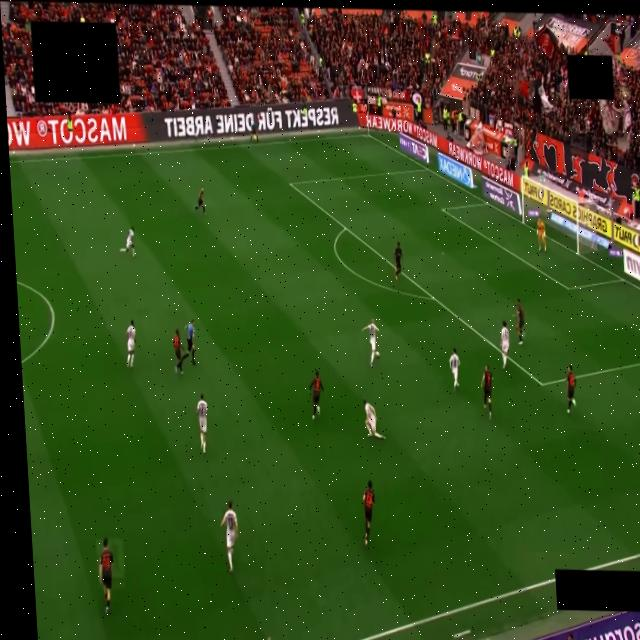ball: (375, 351, 380, 358)
player: (220, 501, 237, 571), (98, 538, 112, 614), (363, 400, 384, 439), (361, 320, 378, 366), (362, 481, 373, 545), (173, 329, 188, 374), (124, 320, 138, 368), (309, 372, 323, 419), (196, 394, 207, 453), (499, 320, 511, 370), (481, 366, 492, 418), (120, 227, 134, 258), (566, 365, 575, 413), (449, 349, 459, 390), (516, 299, 523, 345), (394, 242, 402, 279), (537, 219, 545, 251), (194, 188, 204, 213)
referee: (184, 320, 195, 364)
